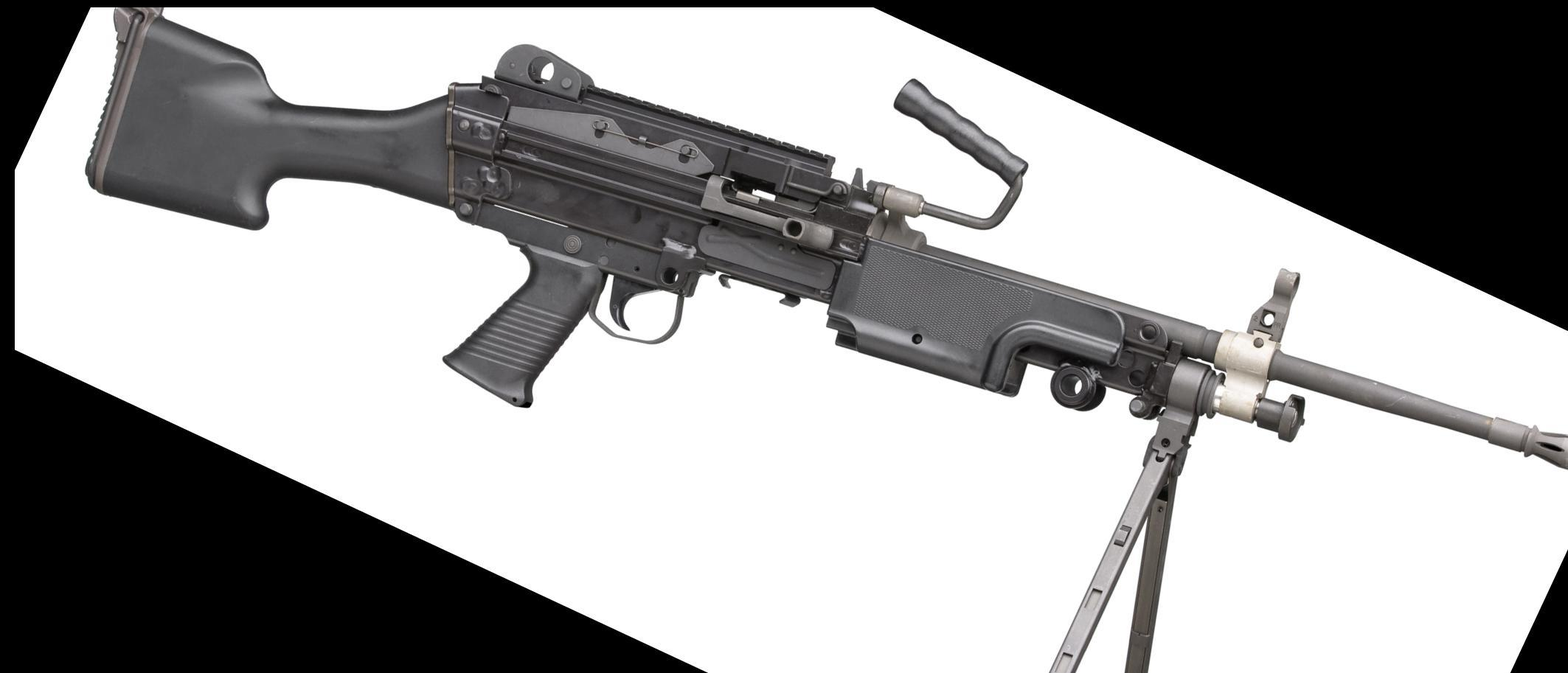larga: (85, 6, 1568, 673)
